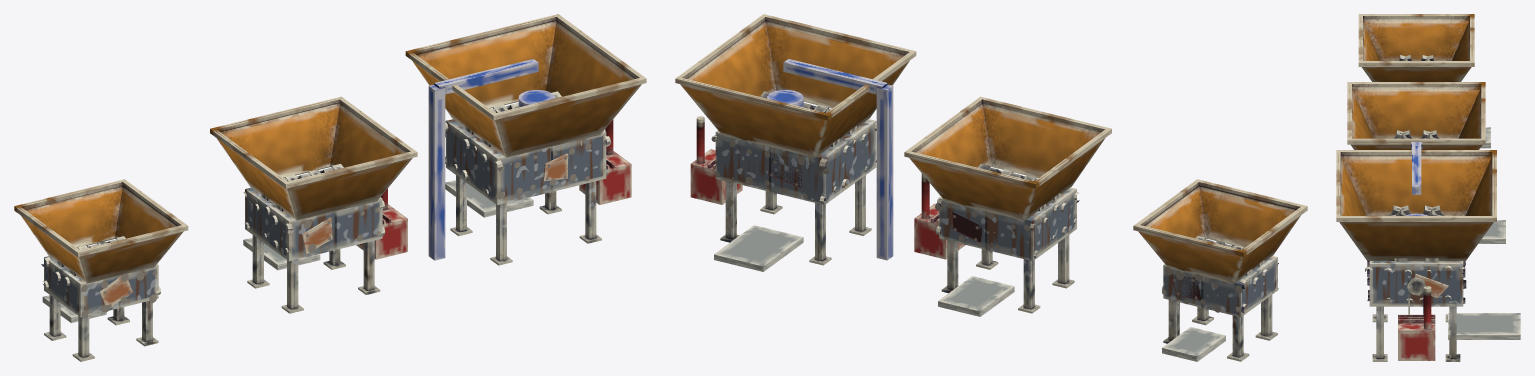
Rendered from SalvageMachine.glb.
3 views of the same model, side by side, from view 1: azimuth 30°, elevation 25°; view 2: azimuth 150°, elevation 25°; view 3: azimuth 270°, elevation 25° (orthographic). The views are drawn at different scales.
Visible parts, largest first — view 1: Tier_3_Hopper, Tier_2_Hopper, Tier_1_Hopper, Tier_3_Frame, Tier_2_Frame, Tier_1_Frame, Tier_3_Crane, Tier_3_Extras, Tier_2_Extras, Tier_3_Chute, Tier_3_Bolts, Tier_1_Bolts (+5 smaller); view 2: Tier_3_Hopper, Tier_2_Hopper, Tier_1_Hopper, Tier_3_Frame, Tier_2_Frame, Tier_1_Frame, Tier_3_Crane, Tier_3_Chute, Tier_2_Chute, Tier_3_Extras, Tier_2_Extras, Tier_1_Chute (+4 smaller); view 3: Tier_3_Hopper, Tier_2_Hopper, Tier_1_Hopper, Tier_3_Frame, Tier_3_Extras, Tier_3_Chute, Tier_3_Rollers, Tier_3_Crane, Tier_2_Chute, Tier_3_Bolts, Tier_3_PatchPlates, Tier_2_Rollers.
Part boxes in pixels (x1=…): Tier_3_Hopper: x1=405, y1=14, x2=646, y2=157; Tier_2_Hopper: x1=210, y1=96, x2=417, y2=220; Tier_1_Hopper: x1=14, y1=179, x2=188, y2=283; Tier_3_Frame: x1=446, y1=105, x2=606, y2=265; Tier_2_Frame: x1=245, y1=170, x2=382, y2=313; Tier_1_Frame: x1=44, y1=256, x2=158, y2=361; Tier_3_Crane: x1=428, y1=59, x2=554, y2=260; Tier_3_Extras: x1=579, y1=119, x2=631, y2=204; Tier_2_Extras: x1=356, y1=188, x2=407, y2=259; Tier_3_Chute: x1=445, y1=180, x2=533, y2=217; Tier_3_Bolts: x1=445, y1=120, x2=611, y2=199; Tier_1_Bolts: x1=41, y1=246, x2=160, y2=317; Tier_3_Hopper: x1=675, y1=14, x2=916, y2=157; Tier_2_Hopper: x1=904, y1=96, x2=1111, y2=220; Tier_1_Hopper: x1=1133, y1=179, x2=1307, y2=283; Tier_3_Frame: x1=715, y1=105, x2=876, y2=265; Tier_2_Frame: x1=939, y1=187, x2=1076, y2=313; Tier_1_Frame: x1=1163, y1=256, x2=1277, y2=361; Tier_3_Crane: x1=767, y1=59, x2=893, y2=260; Tier_3_Chute: x1=714, y1=225, x2=803, y2=271; Tier_2_Chute: x1=938, y1=276, x2=1014, y2=316; Tier_3_Extras: x1=690, y1=116, x2=742, y2=204; Tier_2_Extras: x1=914, y1=173, x2=965, y2=259; Tier_1_Chute: x1=1162, y1=327, x2=1225, y2=361; Tier_3_Hopper: x1=1336, y1=150, x2=1496, y2=260; Tier_2_Hopper: x1=1347, y1=82, x2=1485, y2=149; Tier_1_Hopper: x1=1358, y1=14, x2=1474, y2=81; Tier_3_Frame: x1=1369, y1=261, x2=1463, y2=361; Tier_3_Extras: x1=1398, y1=286, x2=1435, y2=360; Tier_3_Chute: x1=1448, y1=313, x2=1520, y2=339; Tier_3_Rollers: x1=1388, y1=205, x2=1444, y2=314; Tier_3_Crane: x1=1405, y1=142, x2=1428, y2=215; Tier_2_Chute: x1=1478, y1=220, x2=1505, y2=243; Tier_3_Bolts: x1=1365, y1=261, x2=1466, y2=303; Tier_3_PatchPlates: x1=1368, y1=265, x2=1464, y2=298; Tier_2_Rollers: x1=1393, y1=130, x2=1439, y2=138.
Size of the model in its own units: 16.25 by 4.65 by 4.96.
22 materials, 22 textured.
